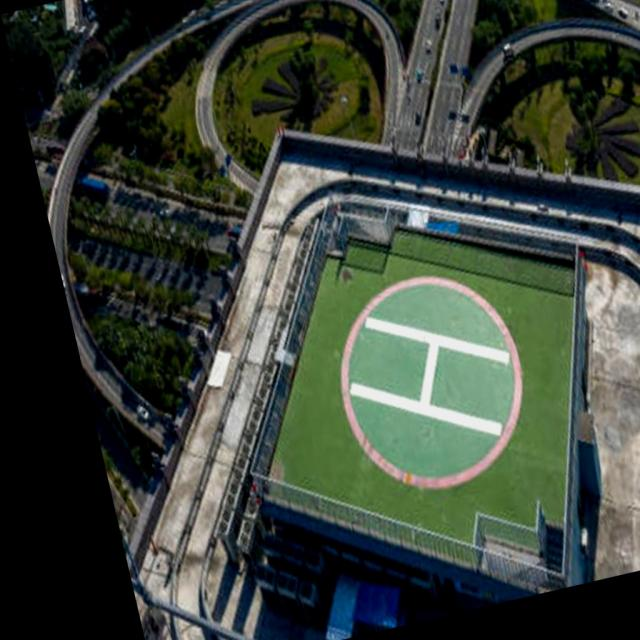helipad: (334, 270, 530, 494)
